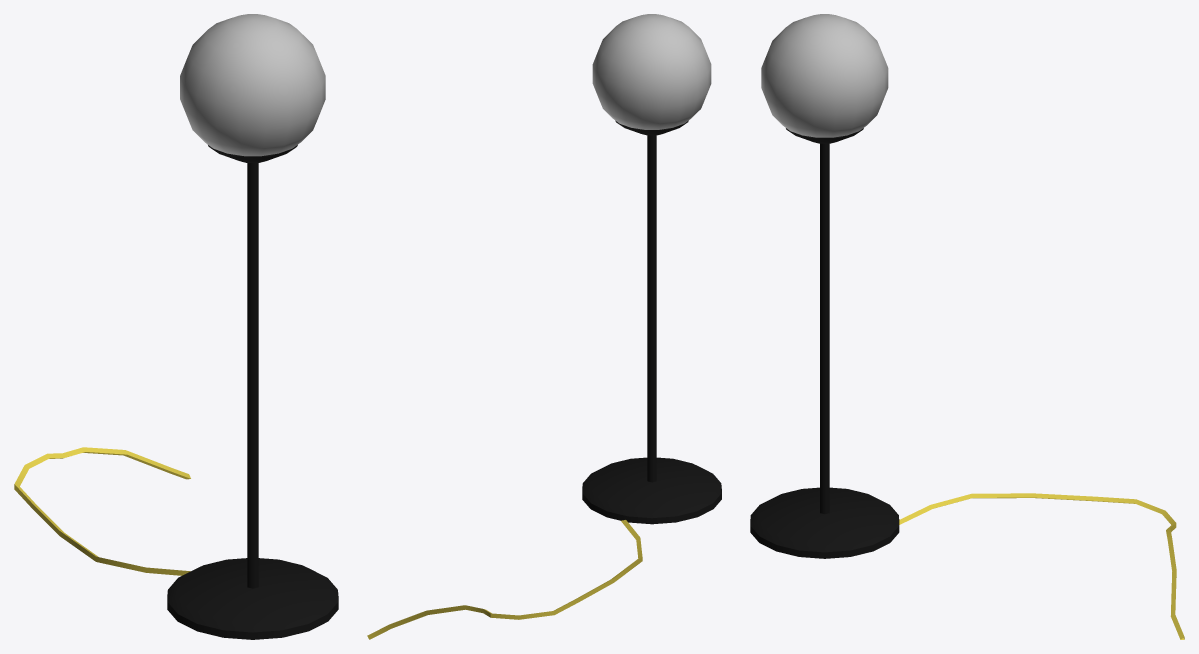
File: Lamp_Desk.FBX
The picture shows the model from 3 angles, left to right: view 1: azimuth 30°, elevation 25°; view 2: azimuth 150°, elevation 25°; view 3: azimuth 270°, elevation 25°; orthographic projection. The views are drawn at different scales.
Parts seen in each view (by area): view 1: Lamp Ball; view 2: Lamp Ball; view 3: Lamp Ball.
Part boxes in pixels (x1,y1,x2,y2): Lamp Ball: [14, 14, 338, 639]; Lamp Ball: [367, 14, 721, 639]; Lamp Ball: [750, 14, 1184, 639].
Bounding box in the file's own units: 20.49 × 57.83 × 40.6.
